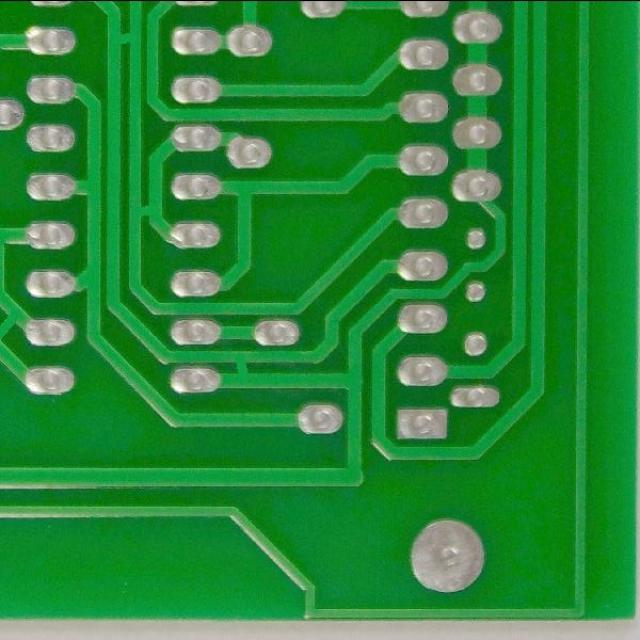short: (98, 18, 149, 61), (228, 344, 260, 396), (127, 189, 163, 231), (1, 301, 26, 358)
